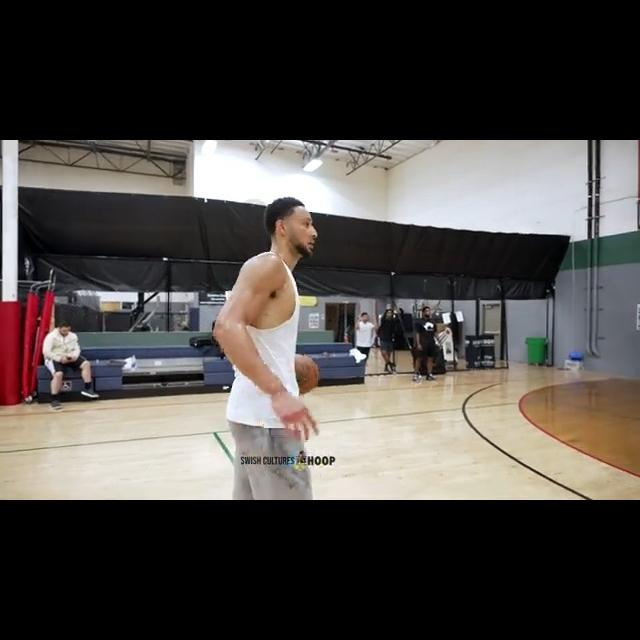basketball: (294, 353, 319, 395)
person: (203, 192, 342, 500), (41, 318, 99, 412), (411, 303, 446, 385), (376, 301, 405, 374), (355, 309, 375, 375)
